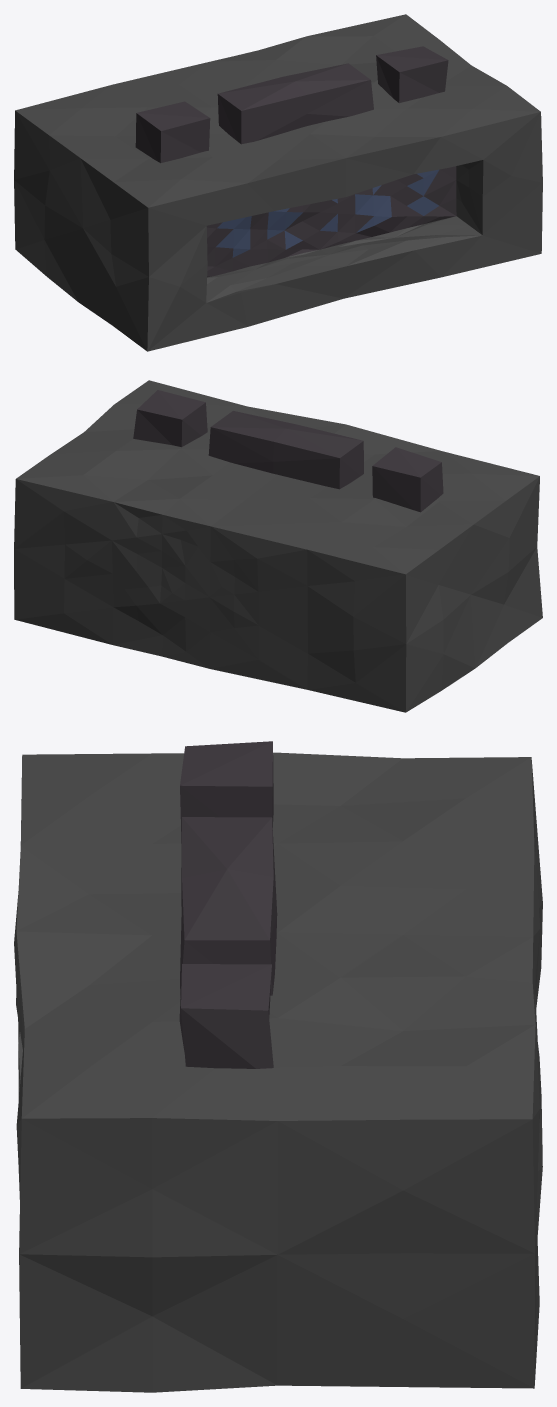
The model's file is bedroom_alarm.fbx.
The picture shows the model from 3 angles, top to bottom: view 1: azimuth 30°, elevation 25°; view 2: azimuth 150°, elevation 25°; view 3: azimuth 270°, elevation 25°; orthographic projection. The views are drawn at different scales.
Visible parts, largest first — view 1: bedroom_alarm; view 2: bedroom_alarm; view 3: bedroom_alarm.
Boxes of the visible parts, x1=… form: bedroom_alarm: x1=14, y1=14, x2=542, y2=351; bedroom_alarm: x1=14, y1=380, x2=542, y2=712; bedroom_alarm: x1=14, y1=741, x2=542, y2=1392.
Bounding box in the file's own units: 25.59 × 11.2 × 15.38.
